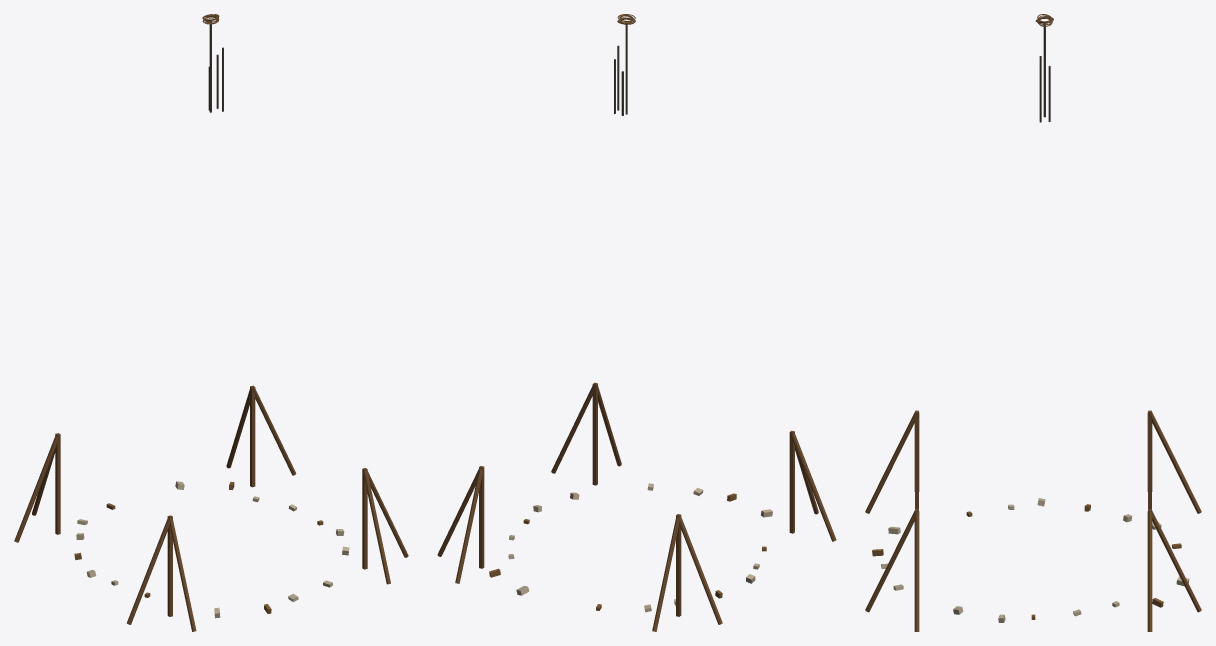
The model's file is colossus_works.glb.
3 renders of one model, left to right at view 1: azimuth 30°, elevation 25°; view 2: azimuth 150°, elevation 25°; view 3: azimuth 270°, elevation 25°, orthographic. The views are drawn at different scales.
Parts seen in each view (by area): view 1: Wood_Diagonal_-1_1, Wood_Cross_1_-1, Wood_Post_1_1, Wood_Cross_-1_-1, Wood_Diagonal_-1_-1, Wood_Post_-1_1, Wood_Post_1_-1; view 2: Wood_Diagonal_-1_-1, Wood_Cross_1_1, Wood_Cross_-1_1, Wood_Diagonal_-1_1, Wood_Post_1_-1, Wood_Post_-1_-1, Wood_Post_1_1; view 3: Wood_Diagonal_1_1, Wood_Diagonal_1_-1, Wood_Cross_1_1, Wood_Cross_1_-1, Wood_Cross_-1_1, Wood_Cross_-1_-1.
Part boxes in pixels (x1=…): Wood_Diagonal_-1_1: x1=14, y1=435, x2=59, y2=542; Wood_Cross_1_-1: x1=363, y1=470, x2=390, y2=584; Wood_Post_1_1: x1=250, y1=385, x2=255, y2=487; Wood_Cross_-1_-1: x1=169, y1=517, x2=196, y2=631; Wood_Diagonal_-1_-1: x1=127, y1=517, x2=169, y2=624; Wood_Post_-1_1: x1=55, y1=433, x2=60, y2=534; Wood_Post_1_-1: x1=362, y1=468, x2=367, y2=569; Wood_Diagonal_-1_-1: x1=790, y1=432, x2=836, y2=541; Wood_Cross_1_1: x1=455, y1=468, x2=483, y2=583; Wood_Cross_-1_1: x1=652, y1=516, x2=679, y2=631; Wood_Diagonal_-1_1: x1=679, y1=516, x2=722, y2=624; Wood_Post_1_-1: x1=592, y1=382, x2=597, y2=485; Wood_Post_-1_-1: x1=789, y1=430, x2=794, y2=533; Wood_Post_1_1: x1=479, y1=466, x2=484, y2=568; Wood_Diagonal_1_1: x1=1147, y1=511, x2=1152, y2=631; Wood_Diagonal_1_-1: x1=914, y1=511, x2=919, y2=631; Wood_Cross_1_1: x1=1152, y1=510, x2=1201, y2=612; Wood_Cross_1_-1: x1=865, y1=510, x2=914, y2=612; Wood_Cross_-1_1: x1=1149, y1=412, x2=1201, y2=513; Wood_Cross_-1_-1: x1=865, y1=412, x2=917, y2=513.
Size of the model in its own units: 20.67 by 37.28 by 20.67.
